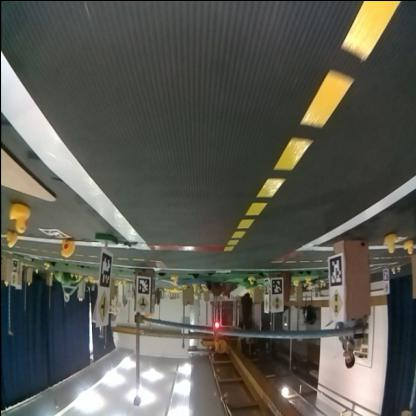Duckie: (10, 202, 30, 232), (61, 240, 74, 258), (384, 233, 396, 252), (7, 231, 17, 247), (404, 240, 414, 254), (171, 274, 178, 282), (247, 278, 252, 284)
Intersection sign: (97, 290, 109, 324), (136, 295, 148, 313)
QR code: (328, 254, 342, 286), (101, 249, 113, 285), (136, 279, 148, 292), (273, 281, 283, 293)
Signal sign: (330, 292, 344, 320), (274, 296, 282, 312)
Traffic light: (214, 322, 219, 330)
